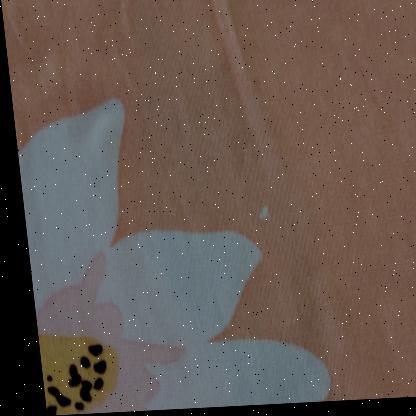spot: (248, 201, 268, 230)
